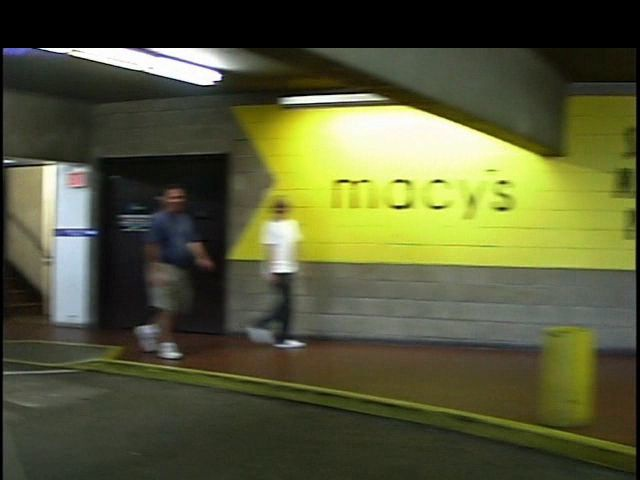person: (115, 180, 202, 364), (223, 190, 305, 361)
